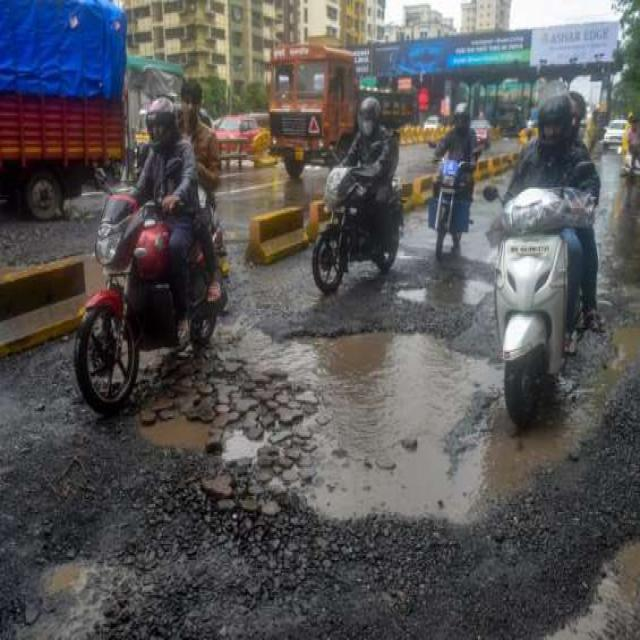Pothole: (108, 287, 640, 556), (0, 552, 229, 640), (525, 525, 640, 640)
